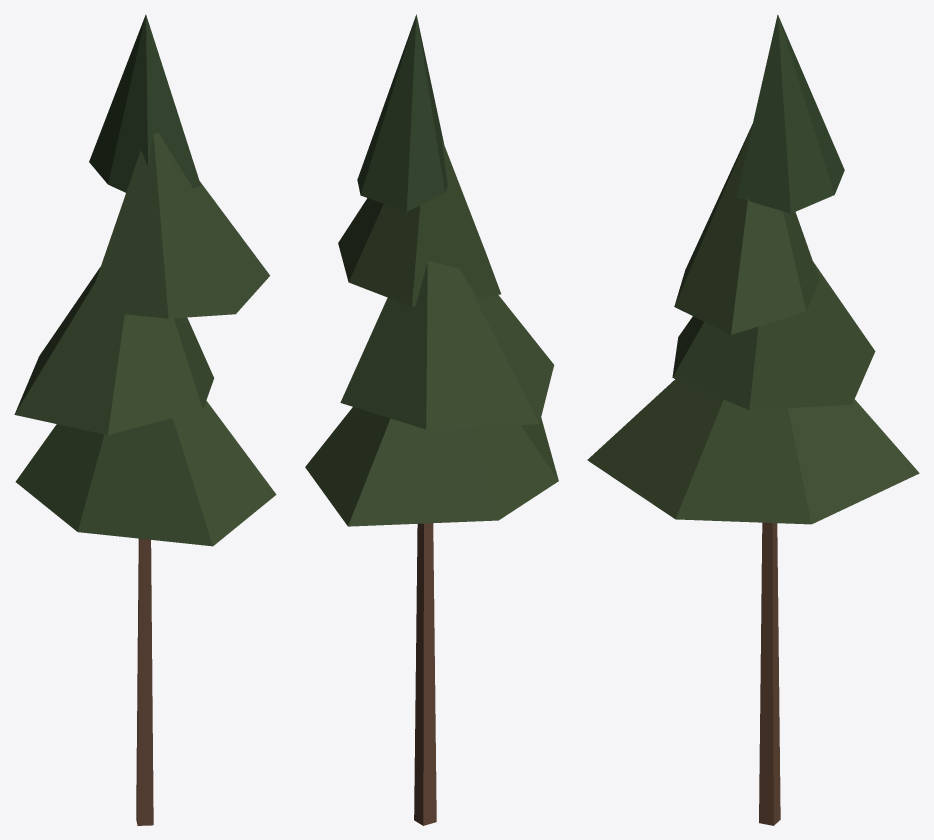
The model's file is conifer_pine_far.glb.
3 views of the same model, side by side, from view 1: azimuth 30°, elevation 25°; view 2: azimuth 150°, elevation 25°; view 3: azimuth 270°, elevation 25° (orthographic).
Visible parts, largest first — view 1: conifer_pine_far; view 2: conifer_pine_far; view 3: conifer_pine_far.
Part boxes in pixels (x1,y1,x2,y2): conifer_pine_far: (14,14,276,825); conifer_pine_far: (305,14,558,825); conifer_pine_far: (587,14,919,825).
Size of the model in its own units: 4.3 by 14.5 by 5.4.
